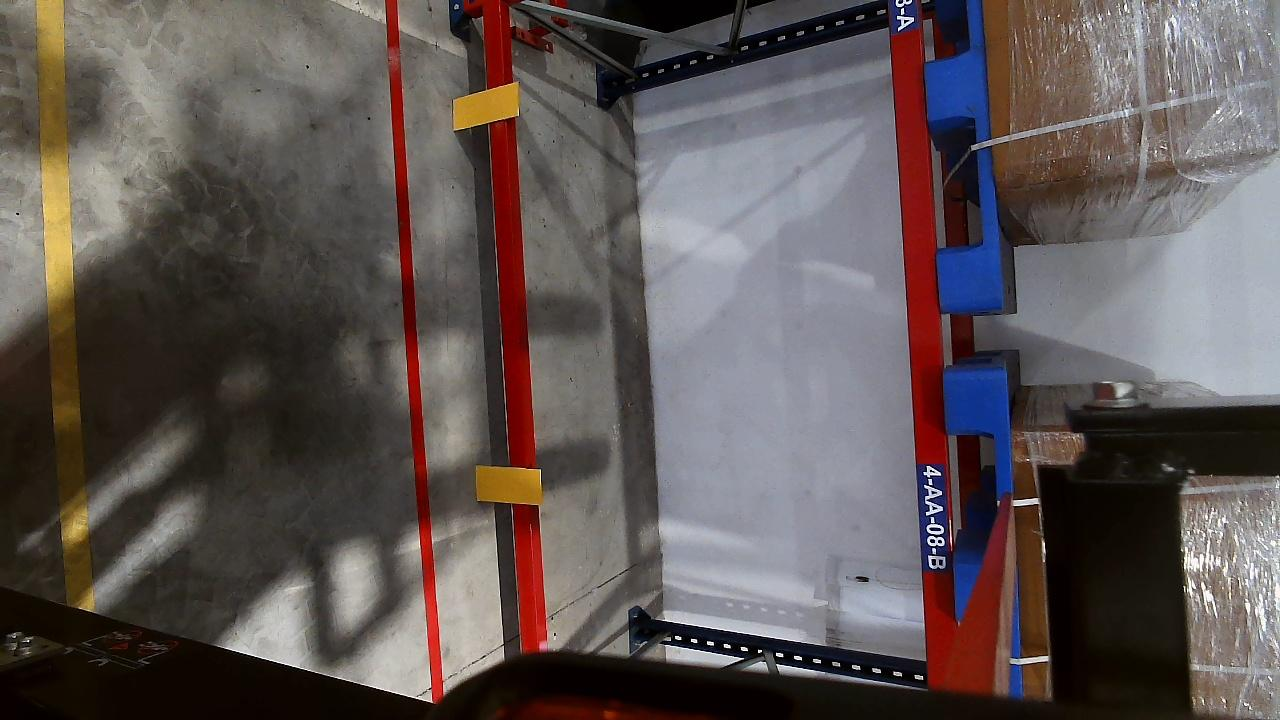h_rack: (884, 0, 955, 600), (482, 0, 547, 651)
orange_strip: (451, 82, 520, 128), (475, 466, 542, 505)
red_line: (374, 0, 443, 694)
small_pallet: (914, 1, 1009, 307)
yellow_line: (21, 4, 102, 607)
